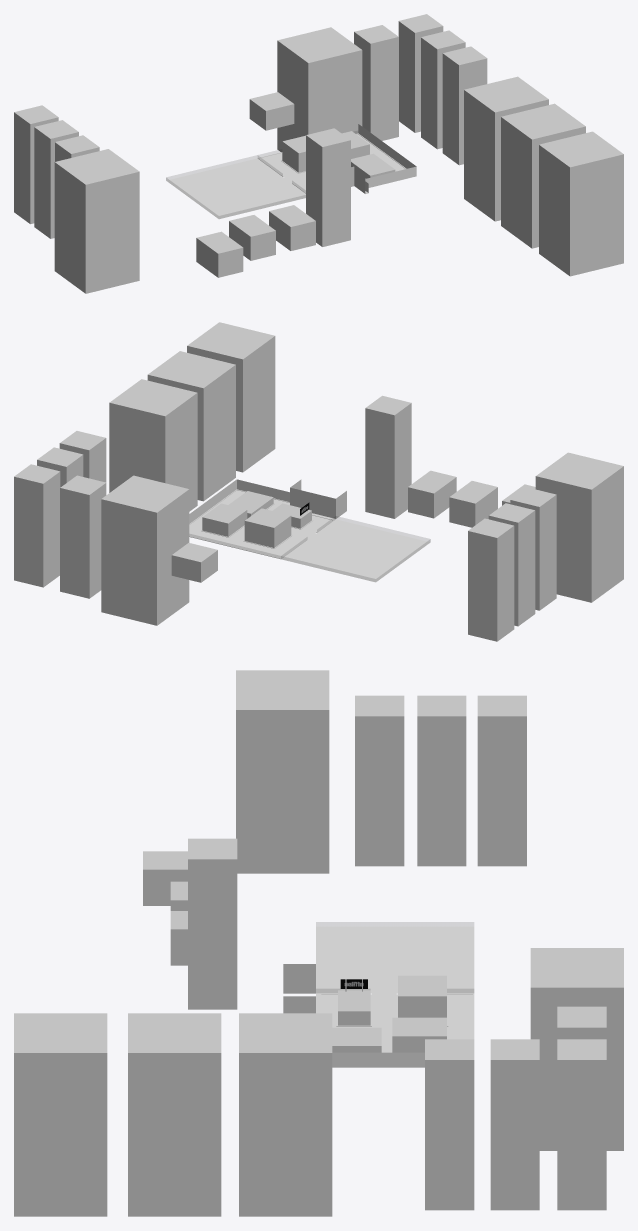
Rendered from environment.glb.
The picture shows the model from 3 angles, top to bottom: view 1: azimuth 30°, elevation 25°; view 2: azimuth 150°, elevation 25°; view 3: azimuth 270°, elevation 25°; orthographic projection. The views are drawn at different scales.
Parts seen in each view (by area): view 1: Building1.001, Park, Building3.003, Building3.002, Building3.001, OuterWall, Road, Building1, Building3, ParkFence, Building2; view 2: Building1.001, Park, Road, Building3.002, Building3.001, Building1, Building5, Building2, OuterWall, ParkFence, Building3, Gutters (+1 smaller); view 3: Building1.001, Park, Road, Building1, Building3.003, Building2, Building5, OuterWall, Building3, Building4, Building3.002, ParkFence.
Boxes of the visible parts, x1,y1,x2,y2 form: Building1.001: (14,14,623,293); Park: (166,158,305,219); Building3.003: (196,231,243,277); Building3.002: (269,205,315,250); Building3.001: (229,215,275,260); OuterWall: (358,124,416,192); Road: (259,134,405,192); Building1: (282,135,305,172); Building3: (351,153,395,178); ParkFence: (166,156,305,218); Building2: (342,131,369,158); Building1.001: (14,322,623,641); Park: (281,519,430,582); Road: (189,490,332,558); Building3.002: (408,470,456,518); Building3.001: (449,481,497,527); Building1: (244,508,291,547); Building5: (290,479,346,518); Building2: (202,503,247,536); OuterWall: (189,479,289,523); ParkFence: (281,516,430,581); Building3: (228,491,273,518); Gutters: (189,489,335,559); Building1.001: (14,670,623,1216); Park: (316,926,474,993); Road: (321,993,472,1052); Building1: (398,975,446,1017); Building3.003: (143,851,187,905); Building2: (392,1017,446,1052); Building5: (283,964,315,1013); OuterWall: (332,1052,424,1067); Building3: (332,1027,381,1052); Building4: (338,990,370,1025); Building3.002: (170,911,187,965); ParkFence: (316,922,473,992).
Size of what is drawn, in the model's own units: 295 by 83.44 by 223.
Materials: 7 (2 with a texture image).
